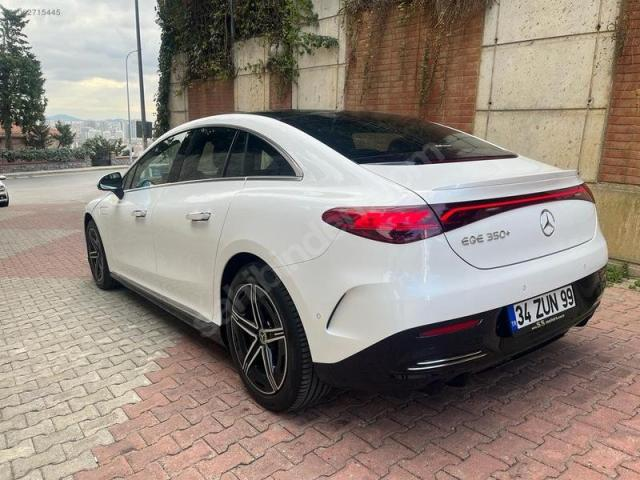plaka: (508, 286, 576, 331)
